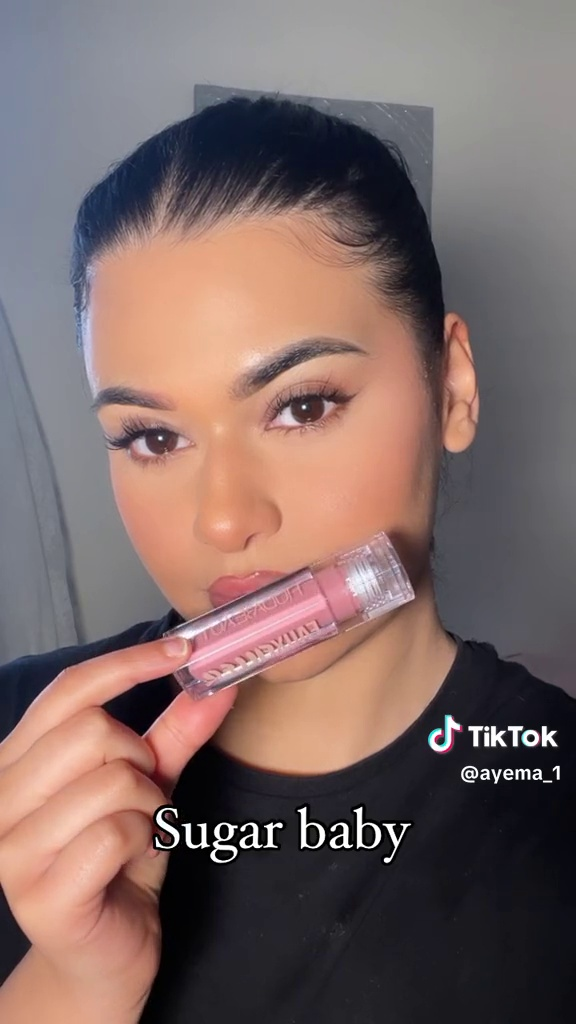train' :'yolo_data/train/images',: (156, 521, 424, 703)
